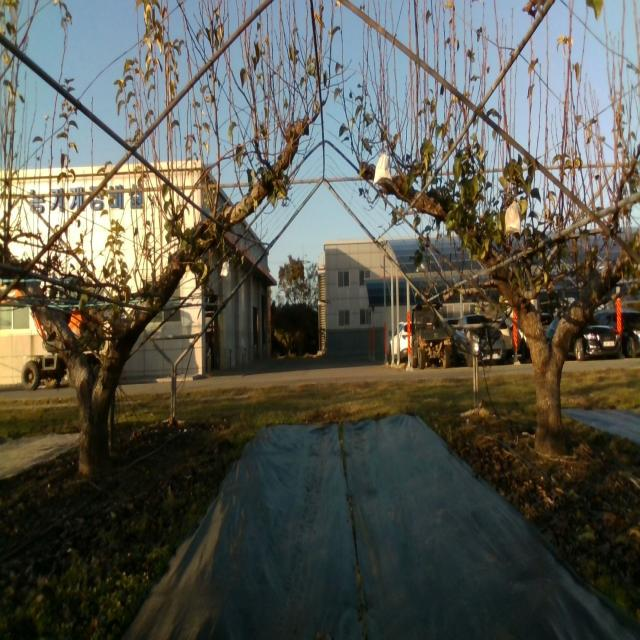pearbags: (505, 197, 522, 239), (373, 152, 393, 186)
